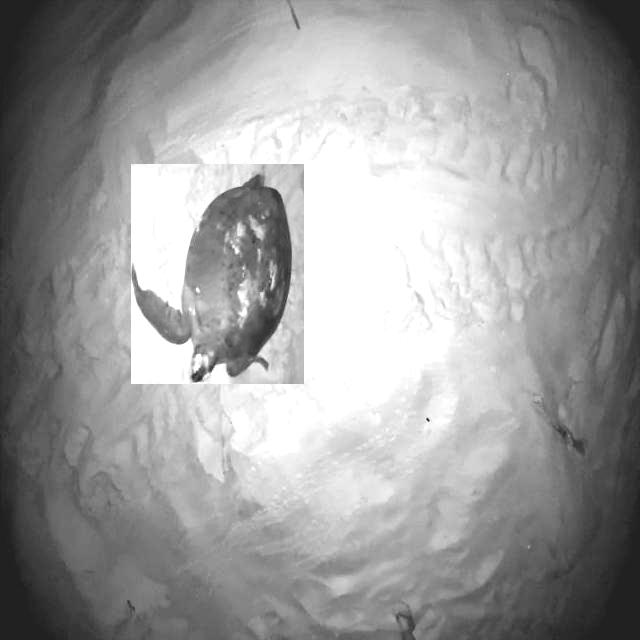Sea turtle: (132, 164, 306, 384)
